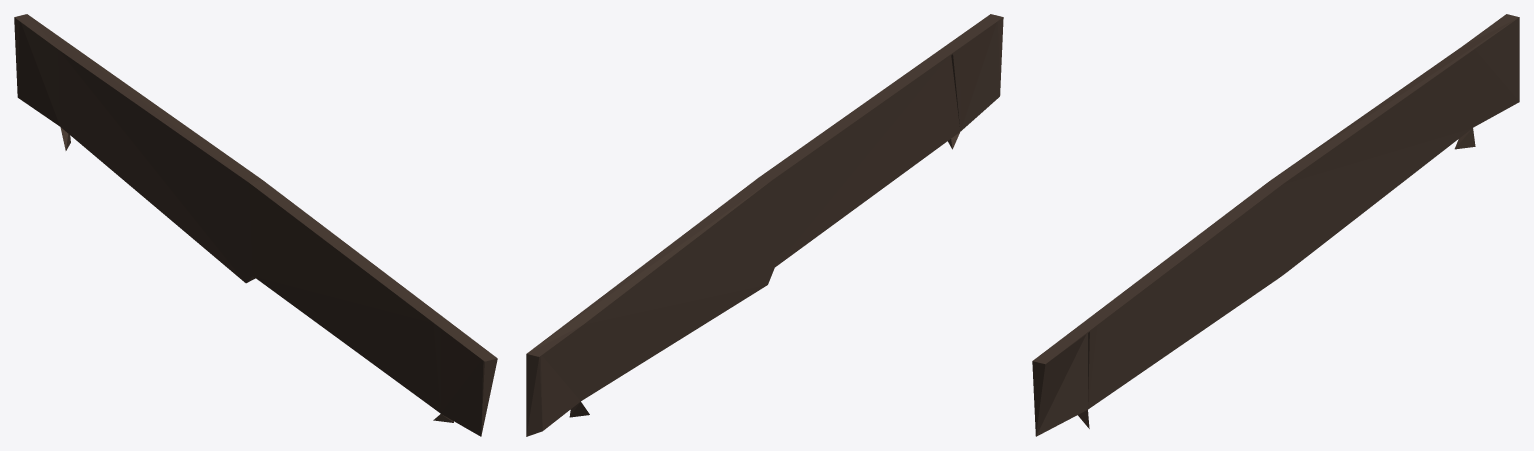
Rendered from hosp-sign.lod2.glb.
The picture shows the model from 3 angles, left to right: view 1: azimuth 30°, elevation 25°; view 2: azimuth 150°, elevation 25°; view 3: azimuth 330°, elevation 25°; orthographic projection. The views are drawn at different scales.
Visible parts, largest first — view 1: defaultMaterial; view 2: defaultMaterial; view 3: defaultMaterial.
Part boxes in pixels (x1,y1,x2,y2): defaultMaterial: [14, 14, 497, 436]; defaultMaterial: [526, 14, 1003, 436]; defaultMaterial: [1032, 14, 1519, 436].
Size of the model in its own units: 0.0246 by 0.1855 by 1.54.
